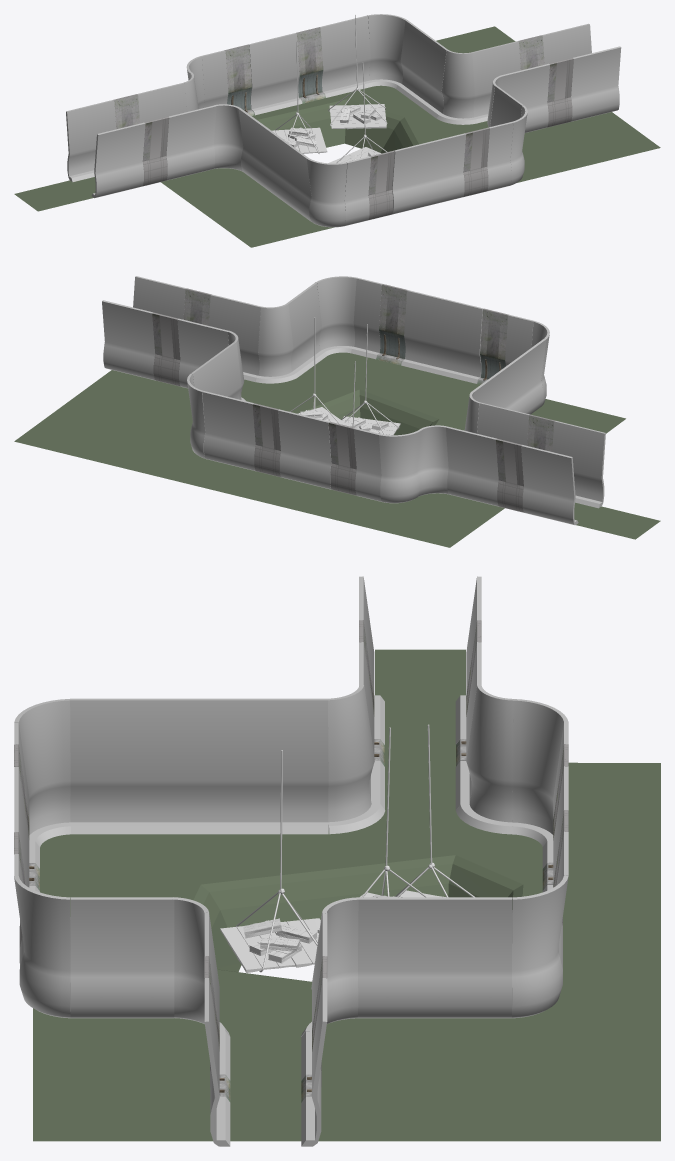
The model's file is LVL4.fbx.
The picture shows the model from 3 angles, top to bottom: view 1: azimuth 30°, elevation 25°; view 2: azimuth 150°, elevation 25°; view 3: azimuth 270°, elevation 25°; orthographic projection. The views are drawn at different scales.
Visible parts, largest first — view 1: Sol, Tube_1_63, angle_interieur, angle_interieur_1, angle_exterieur_4, Tube_1_3, Tube_1_12, Tube_1_33, Tube_3_9, Tube_1_35, Tube_1_34, Tube_1_31 (+41 smaller); view 2: Sol, Tube_1_63, Tube_1_3, angle_interieur_5, angle_interieur_3, angle_exterieur_8, Tube_1_42, Tube_3_16, Tube_1_62, angle_exterieur, Tube_1_12, Tube_1_33 (+39 smaller); view 3: Sol, Tube_1_1, Tube_1, Tube_1_47, Tube_1_2, Tube_1_46, Tube_1_67, Tube_1_65, Tube_1_66, Tube_1_64, angle_interieur_1, Tube_1_4 (+11 smaller).
Boxes of the visible parts, x1=… form: Sol: x1=14, y1=26, x2=660, y2=247; Tube_1_63: x1=426, y1=133, x2=466, y2=206; angle_interieur: x1=367, y1=14, x2=407, y2=88; angle_interieur_1: x1=307, y1=158, x2=347, y2=227; angle_exterieur_4: x1=437, y1=50, x2=477, y2=124; Tube_1_3: x1=392, y1=142, x2=428, y2=214; Tube_1_12: x1=66, y1=105, x2=94, y2=181; Tube_1_33: x1=248, y1=38, x2=278, y2=115; Tube_3_9: x1=296, y1=27, x2=325, y2=103; Tube_1_35: x1=320, y1=21, x2=349, y2=97; Tube_1_34: x1=272, y1=33, x2=302, y2=109; Tube_1_31: x1=343, y1=15, x2=373, y2=91; Sol: x1=14, y1=352, x2=660, y2=547; Tube_1_63: x1=401, y1=290, x2=447, y2=374; Tube_1_3: x1=441, y1=300, x2=483, y2=383; angle_interieur_5: x1=315, y1=276, x2=357, y2=355; angle_interieur_3: x1=379, y1=429, x2=421, y2=503; angle_exterieur_8: x1=255, y1=304, x2=297, y2=383; Tube_1_42: x1=575, y1=427, x2=605, y2=508; Tube_3_16: x1=376, y1=284, x2=407, y2=365; Tube_1_62: x1=351, y1=278, x2=382, y2=359; angle_exterieur: x1=417, y1=425, x2=448, y2=496; Tube_1_12: x1=546, y1=451, x2=578, y2=525; Tube_1_33: x1=303, y1=415, x2=331, y2=489; Sol: x1=33, y1=649, x2=660, y2=1141; Tube_1_1: x1=173, y1=698, x2=225, y2=834; Tube_1: x1=121, y1=698, x2=173, y2=834; Tube_1_47: x1=225, y1=698, x2=276, y2=834; Tube_1_2: x1=70, y1=698, x2=121, y2=834; Tube_1_46: x1=277, y1=698, x2=328, y2=834; Tube_1_67: x1=70, y1=897, x2=122, y2=1018; Tube_1_65: x1=408, y1=897, x2=460, y2=1018; Tube_1_66: x1=122, y1=897, x2=174, y2=1018; Tube_1_64: x1=460, y1=897, x2=511, y2=1018; angle_interieur_1: x1=14, y1=699, x2=71, y2=846; Tube_1_4: x1=357, y1=897, x2=408, y2=1018.
Size of the model in its own units: 6818 by 1788 by 3753.
